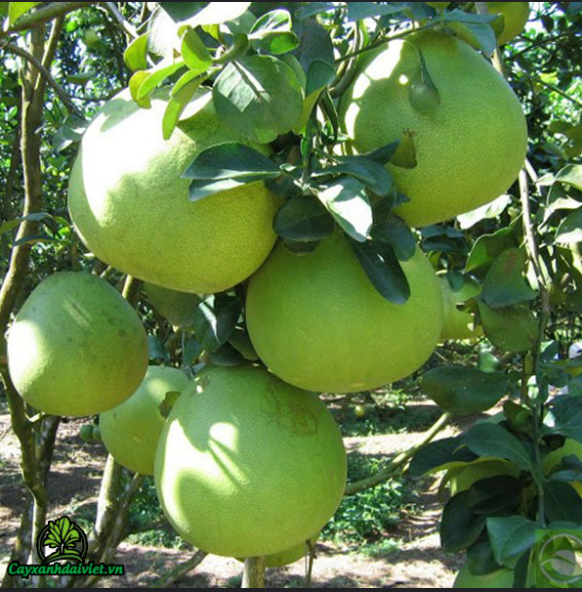buoi: (65, 76, 296, 295), (245, 177, 446, 398), (336, 26, 527, 230), (155, 374, 350, 562), (6, 272, 148, 420)
